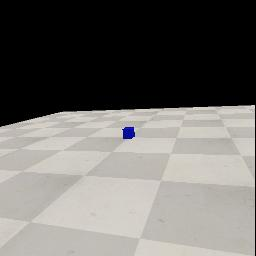box: (122, 127, 135, 139)
